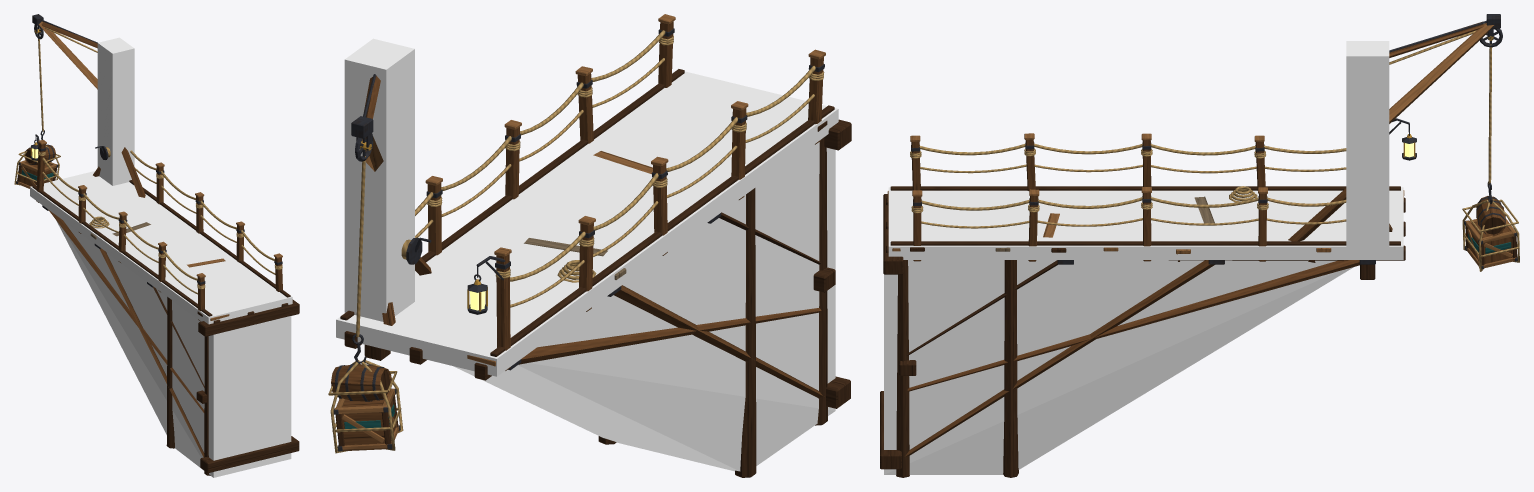
The model's file is cliff_catwalk_pier.glb.
The picture shows the model from 3 angles, left to right: view 1: azimuth 30°, elevation 25°; view 2: azimuth 150°, elevation 25°; view 3: azimuth 270°, elevation 25°; orthographic projection. The views are drawn at different scales.
Parts seen in each view (by area): view 1: col_catwalk_braces, CliffCatwalkPier, col_catwalk_deck, col_catwalk_crane; view 2: col_catwalk_braces, col_catwalk_deck, CliffCatwalkPier, col_catwalk_crane; view 3: col_catwalk_braces, CliffCatwalkPier, col_catwalk_deck, col_catwalk_crane.
Boxes of the visible parts, box(x1,y1,x2,y2) form: col_catwalk_braces: box(56, 220, 291, 477); CliffCatwalkPier: box(14, 14, 299, 475); col_catwalk_deck: box(30, 171, 292, 324); col_catwalk_crane: box(97, 37, 134, 185); col_catwalk_braces: box(453, 142, 835, 471); col_catwalk_deck: box(336, 71, 838, 376); CliffCatwalkPier: box(328, 14, 851, 477); col_catwalk_crane: box(344, 38, 414, 321); col_catwalk_braces: box(884, 260, 1353, 474); CliffCatwalkPier: box(880, 14, 1519, 477); col_catwalk_deck: box(888, 187, 1403, 259); col_catwalk_crane: box(1346, 41, 1389, 246).
Bounding box in the file's own units: 3.3 × 9.94 × 13.36.
Materials: 7 (5 with a texture image).
